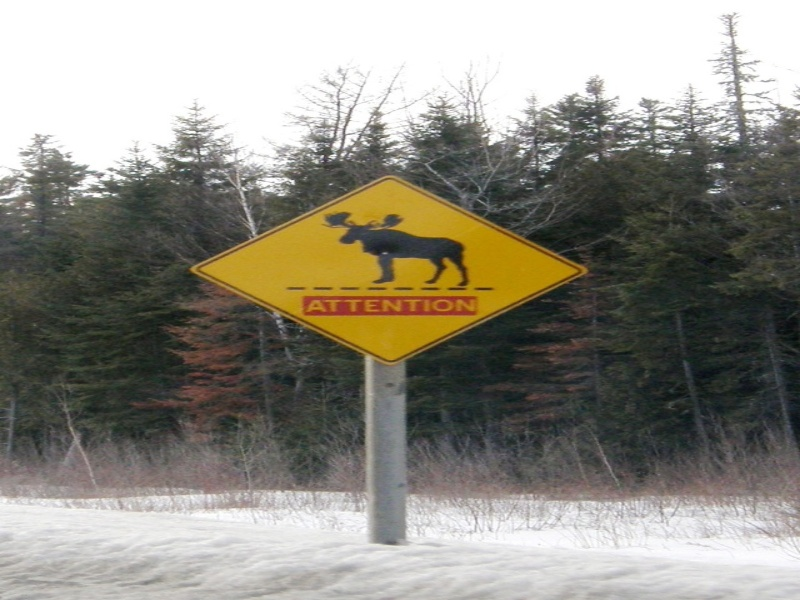animal_ahead: (189, 182, 588, 358)
